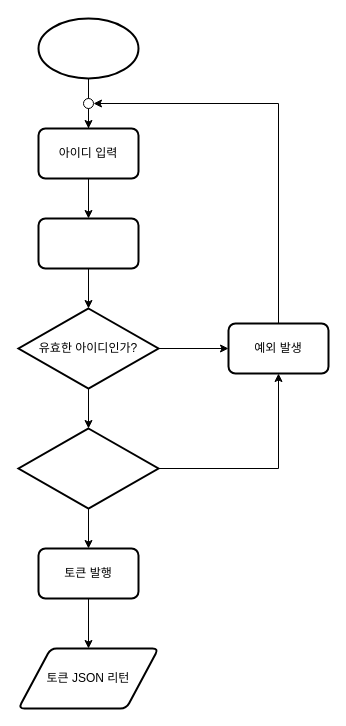
Some shapes in this 346 by 726 pixel diagram are drawn without their labels. Each missing label, with the centre of its shape:
"비밀번호 입력" goes at pixel 88 243.
"유효한 비밀번호인가?" goes at pixel 88 468.
